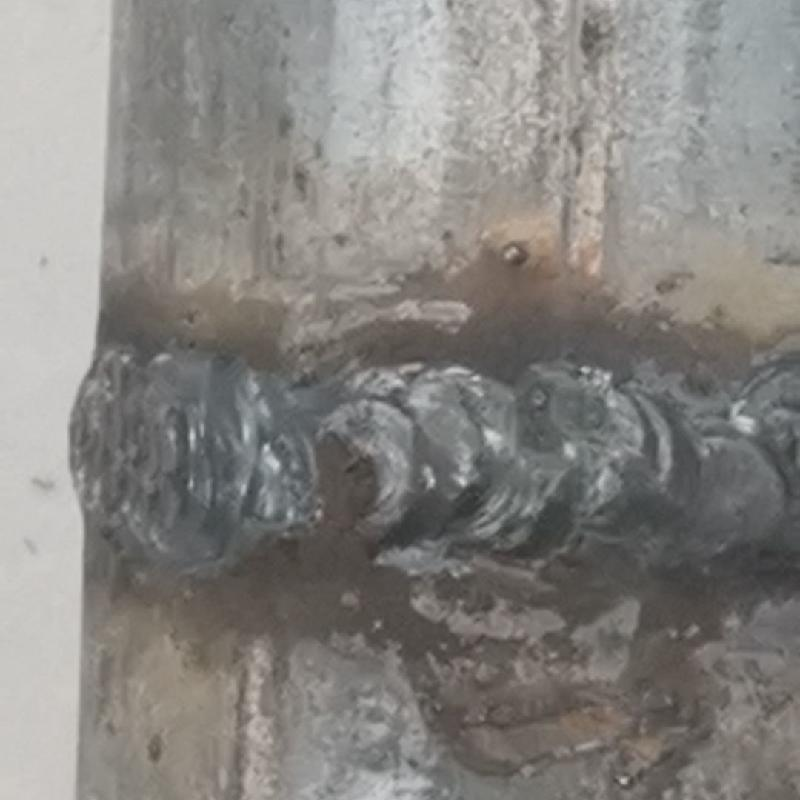good: (62, 330, 799, 566)
